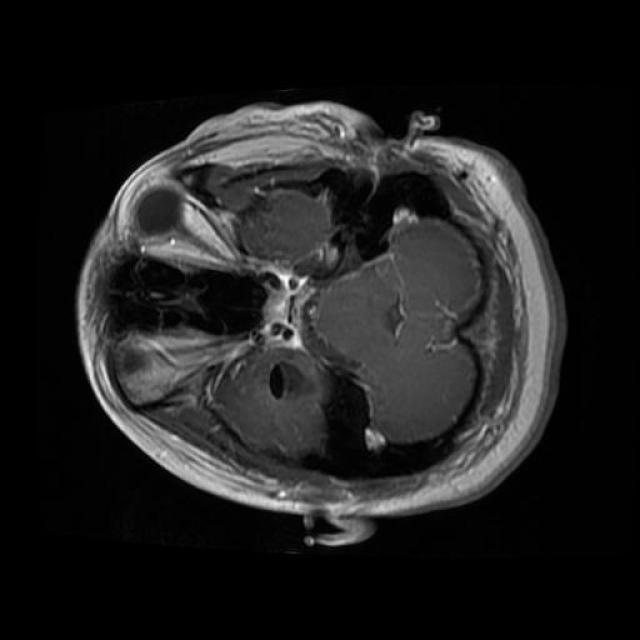Glioma: (269, 362, 313, 400)
